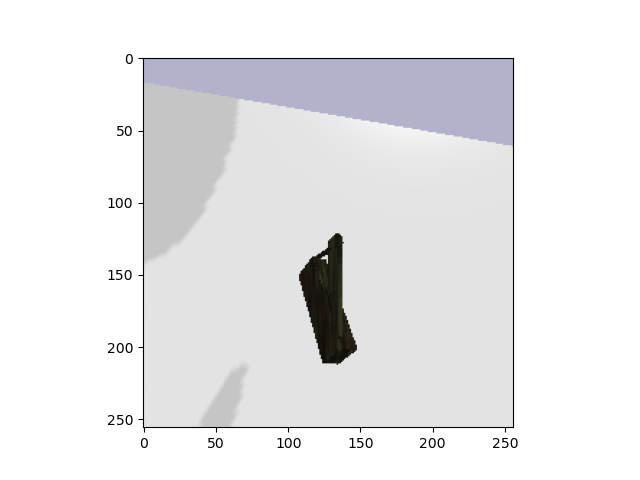v249b387_109: (274, 226, 380, 380)
